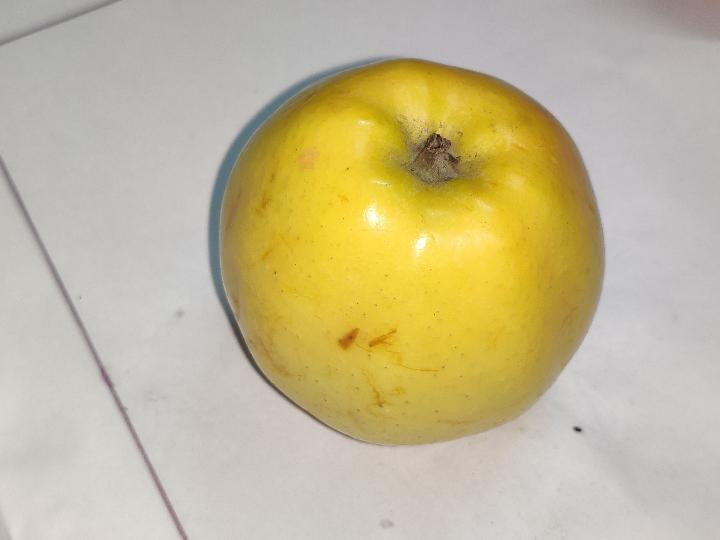apple: (219, 60, 603, 444)
surface_damage: (368, 328, 397, 347), (338, 328, 359, 349)
